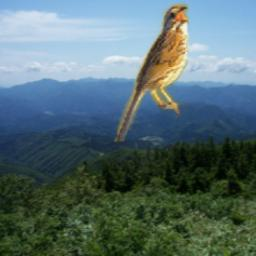Sparrow: (114, 3, 189, 142)
